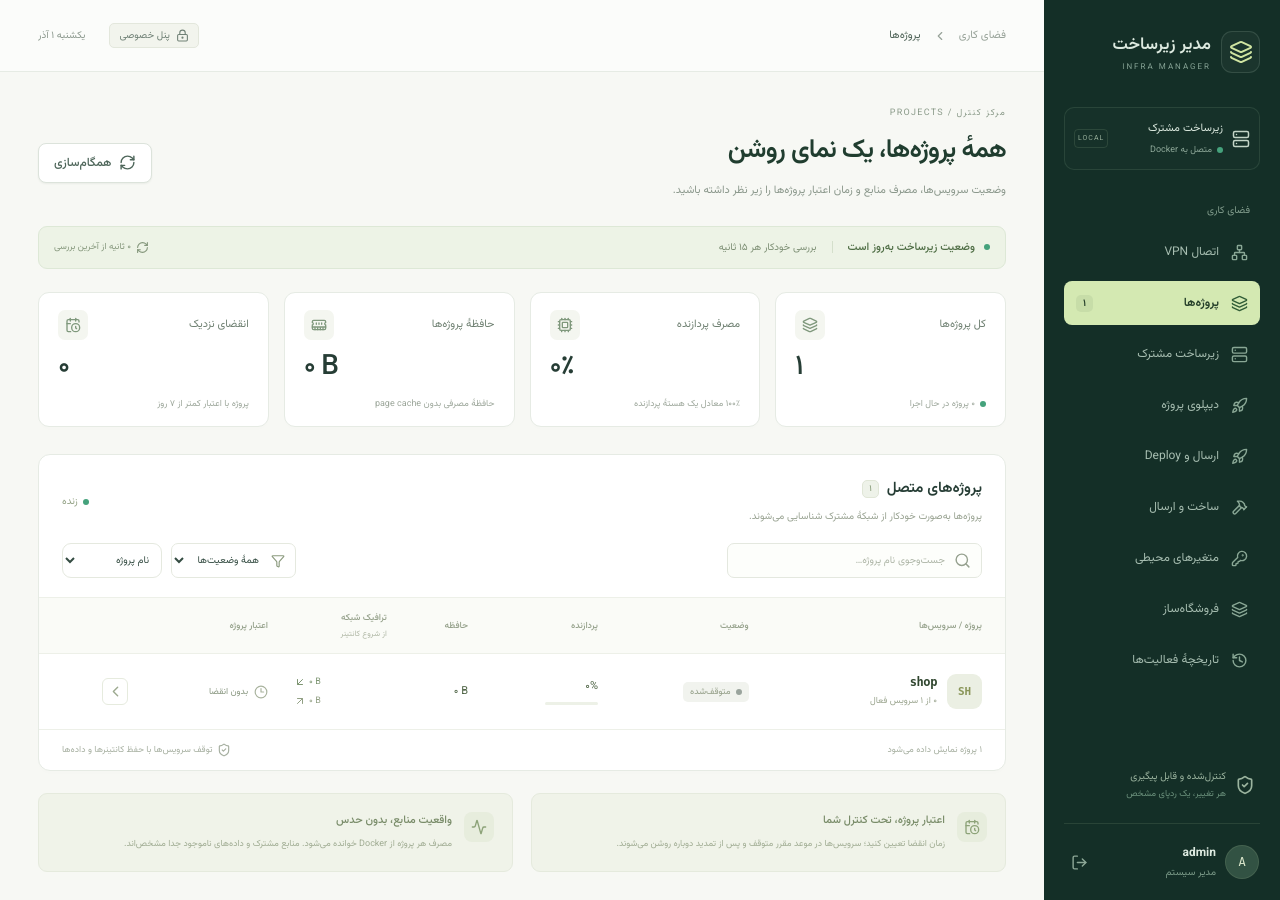
Test: submits an explicit unlimited renewal with the current revision and CSRF token
This screenshot has width=1280, height=900.
Click the button named "جزئیات shop" at (115, 692), box [102,678,128,705]
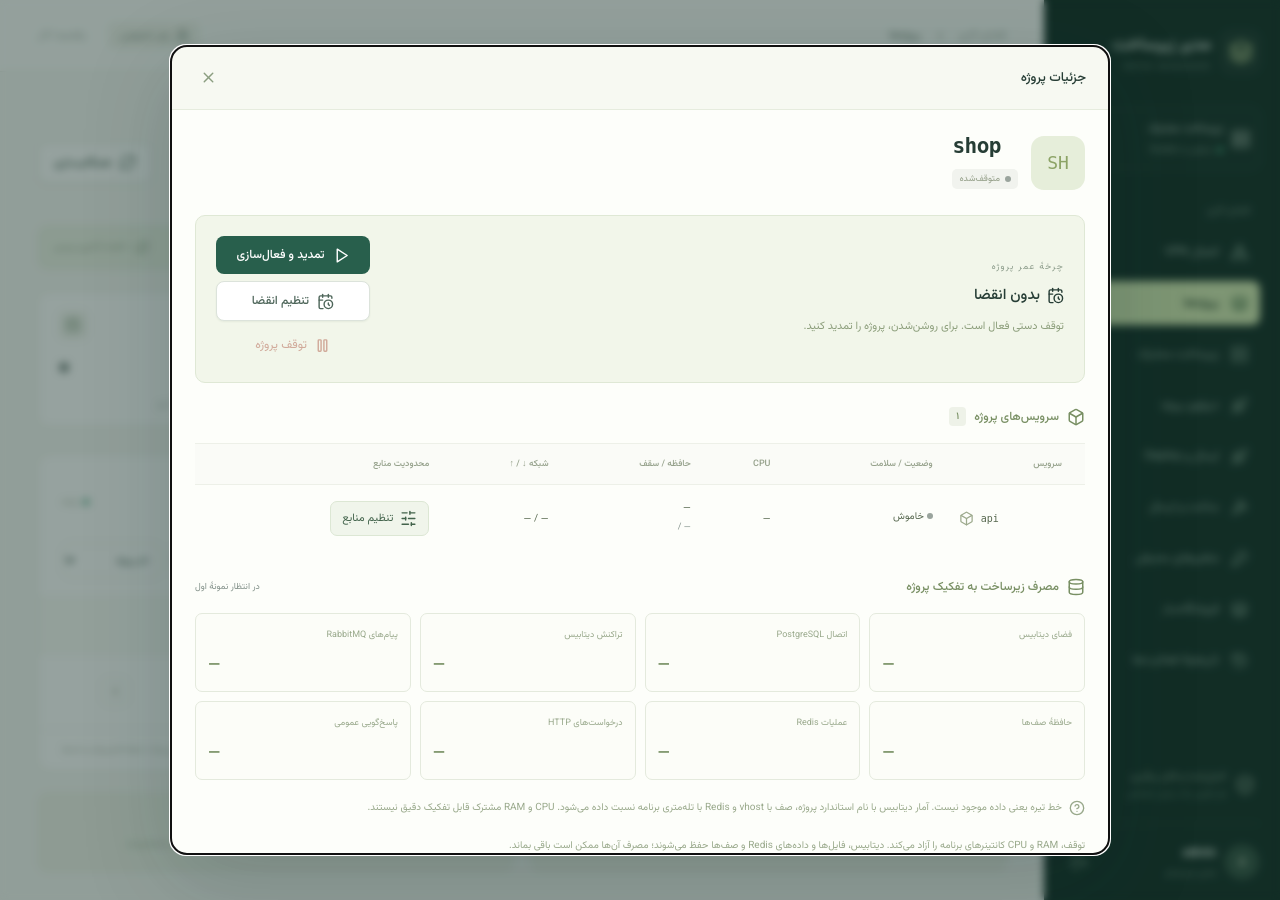
Click the button "تمدید و فعال‌سازی" at (293, 255), box [216,236,370,274]
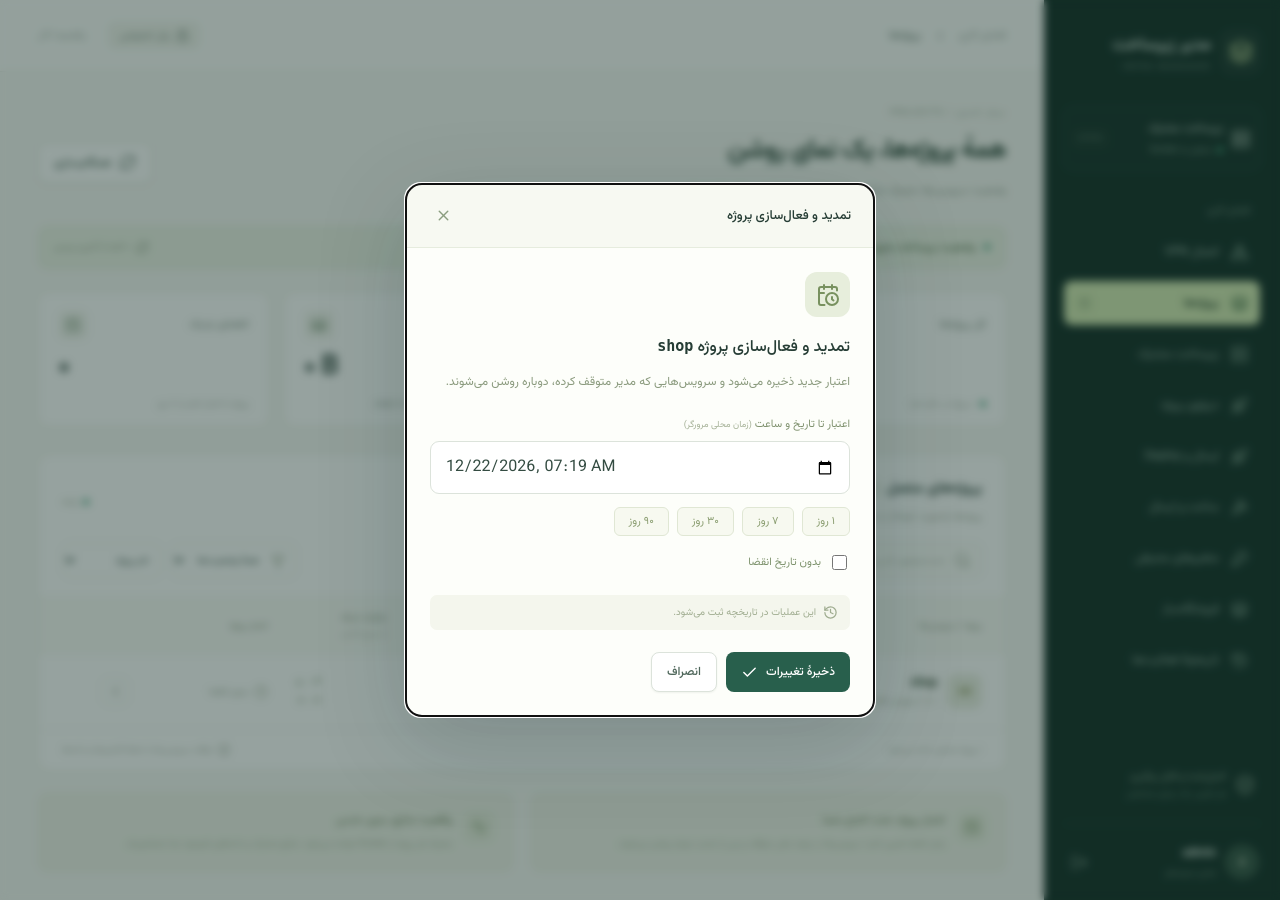
Click the checkbox labelled "بدون تاریخ انقضا" at (840, 562), box [832,555,847,570]
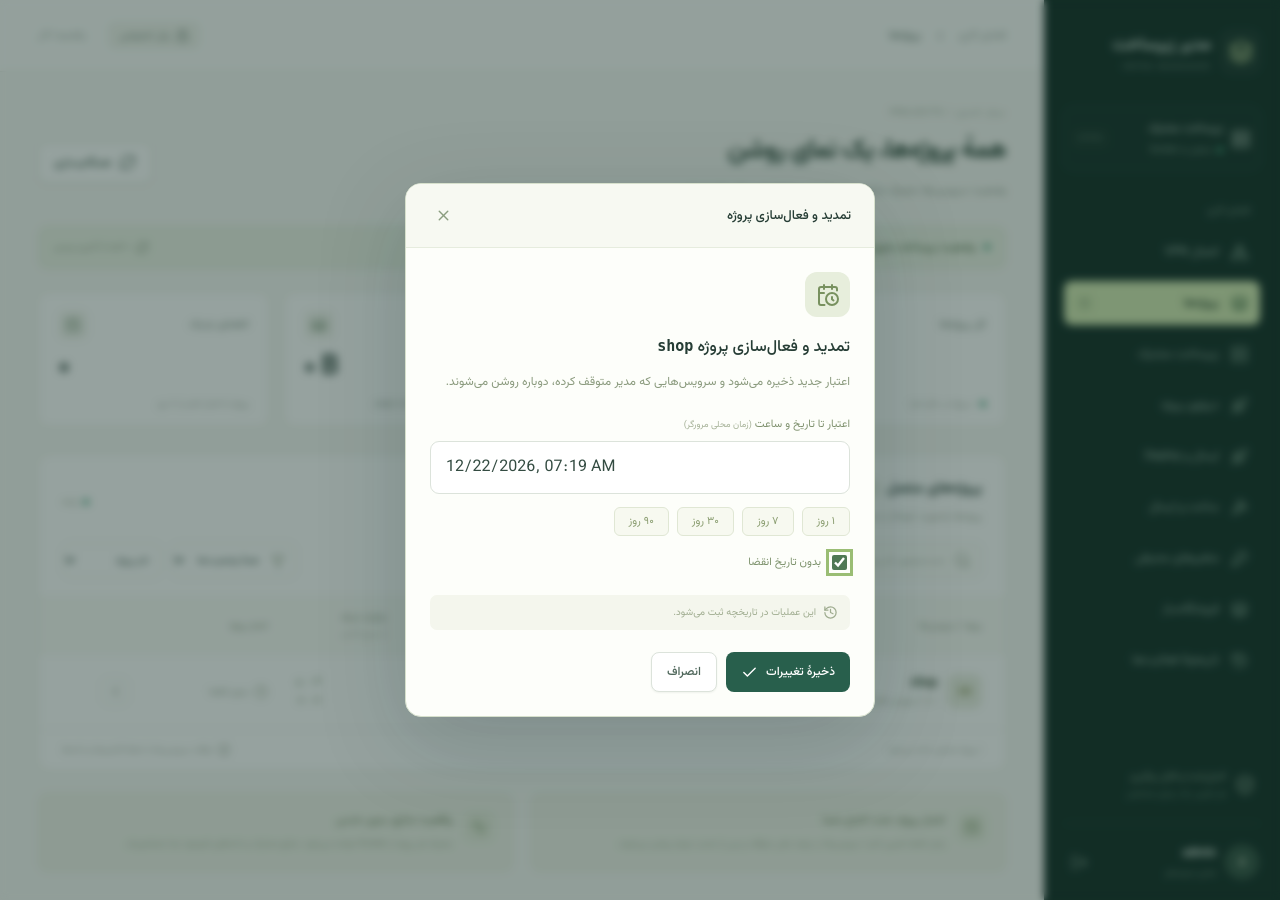
Click the button "ذخیرهٔ تغییرات" at (788, 672), box [726,652,850,692]
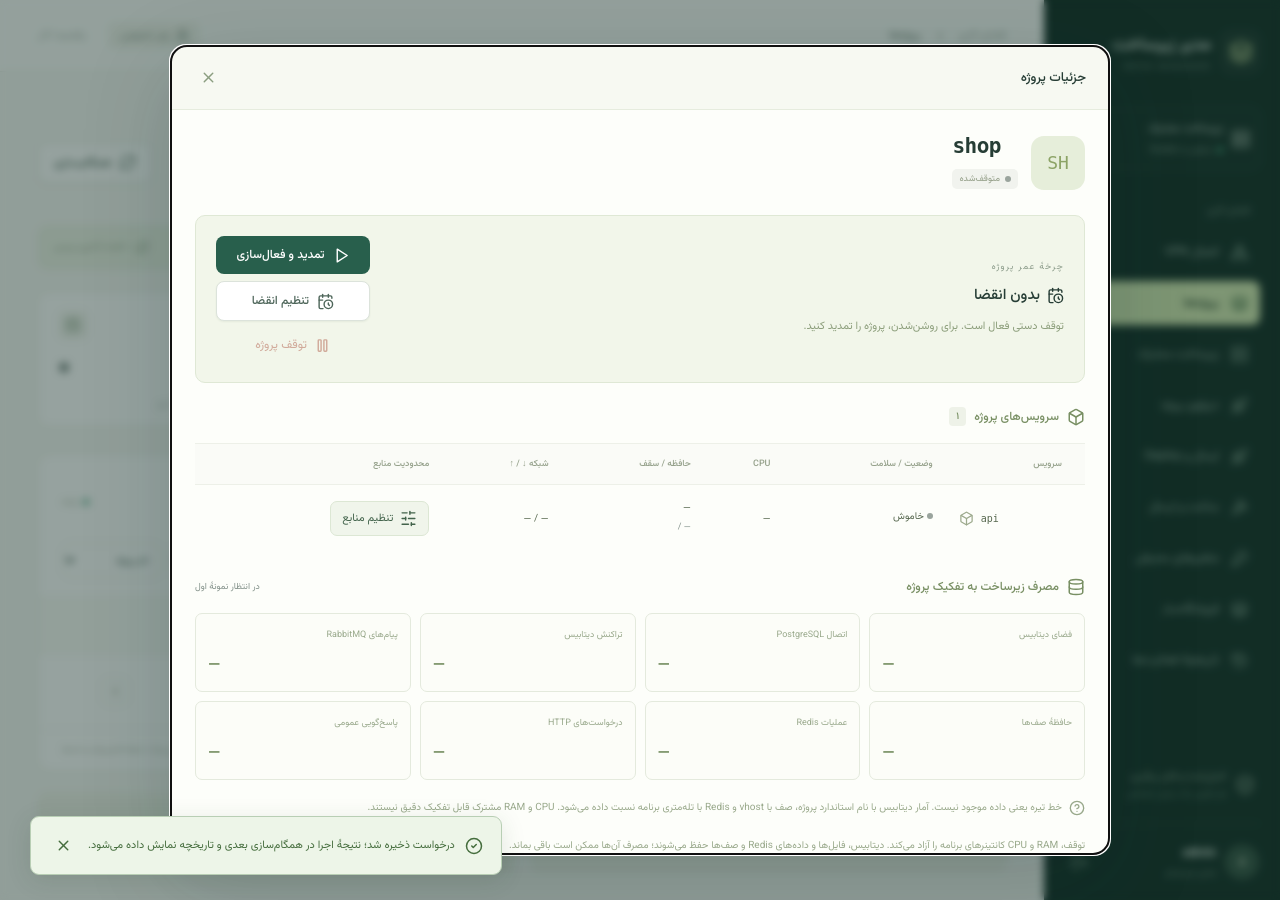
Check: the message shows "درخواست ذخیره شد", box [88,837,455,854]
